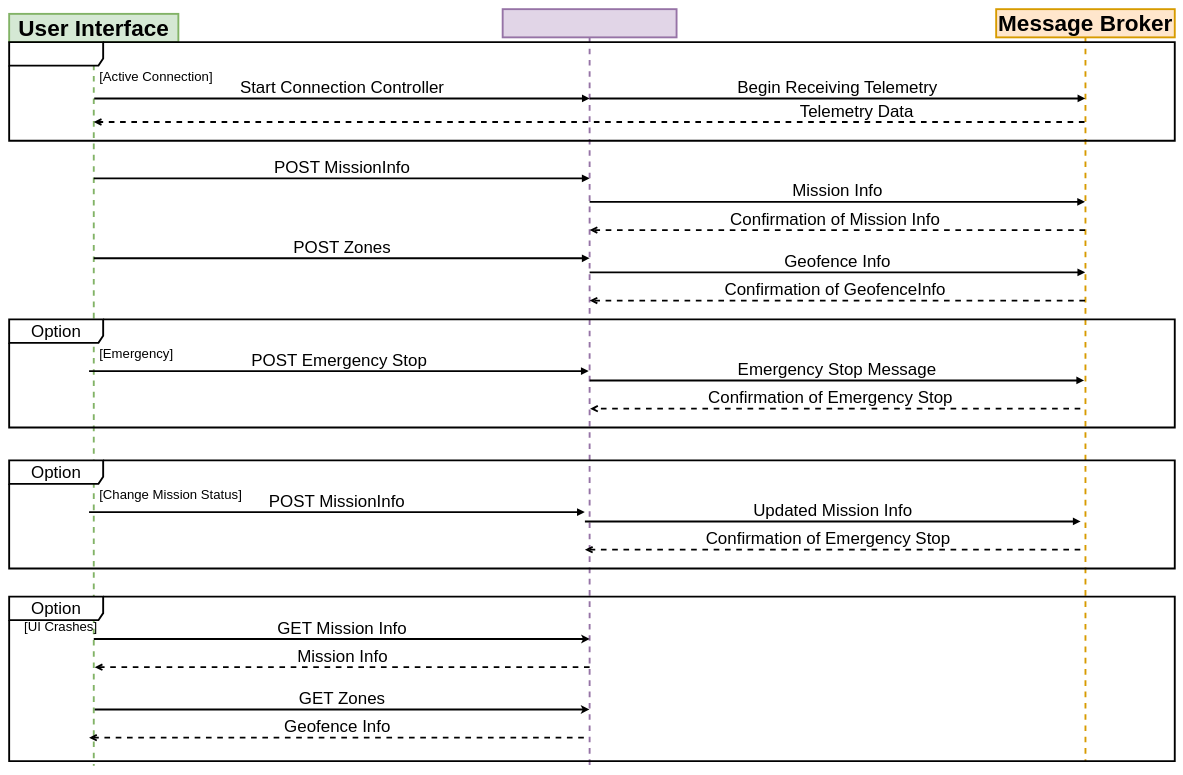
This 1183x775 diagram has some shape labels left out. Here are the shapes that lost their labels. From the top down, the box of each, then its label:
(8, 41, 1175, 141): Loop
(501, 8, 677, 767): Database API
